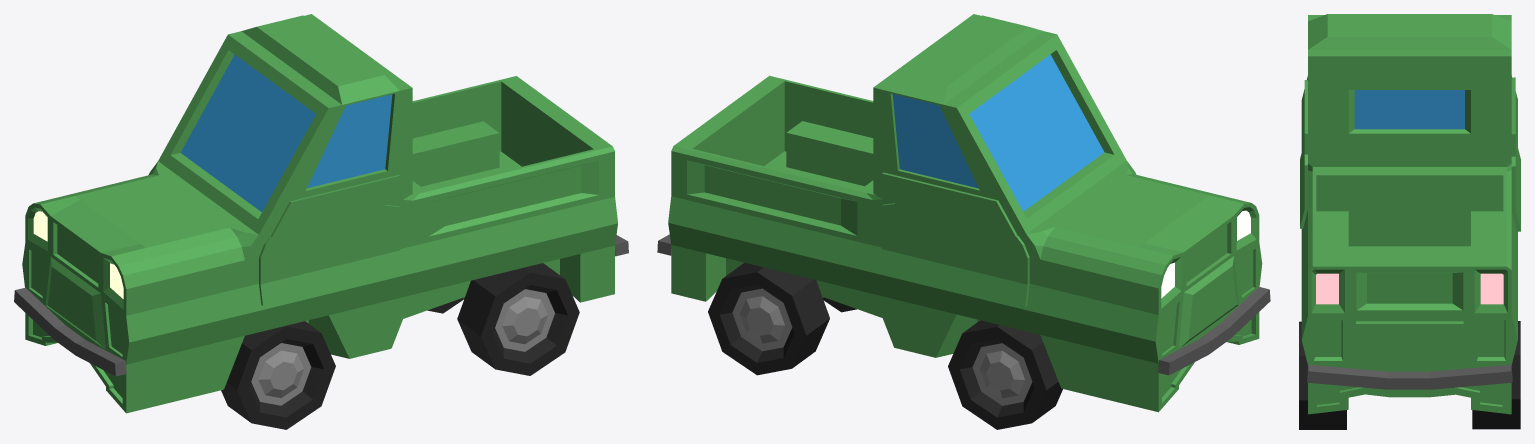
The model's file is Bakkie.fbx.
3 views of the same model, side by side, from view 1: azimuth 30°, elevation 25°; view 2: azimuth 150°, elevation 25°; view 3: azimuth 270°, elevation 25° (orthographic).
Parts seen in each view (by area): view 1: Headlights; view 2: Headlights; view 3: Headlights.
Part boxes in pixels (x1,y1,x2,y2): Headlights: [14, 14, 628, 429]; Headlights: [657, 14, 1270, 429]; Headlights: [1299, 14, 1520, 429].
Size of the model in its own units: 1470 by 884 by 545.
